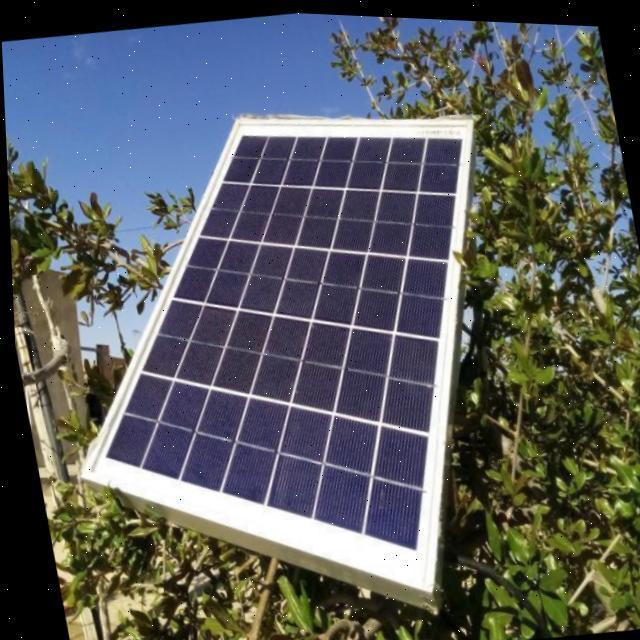Normal Solar Panel: (13, 73, 557, 640)
